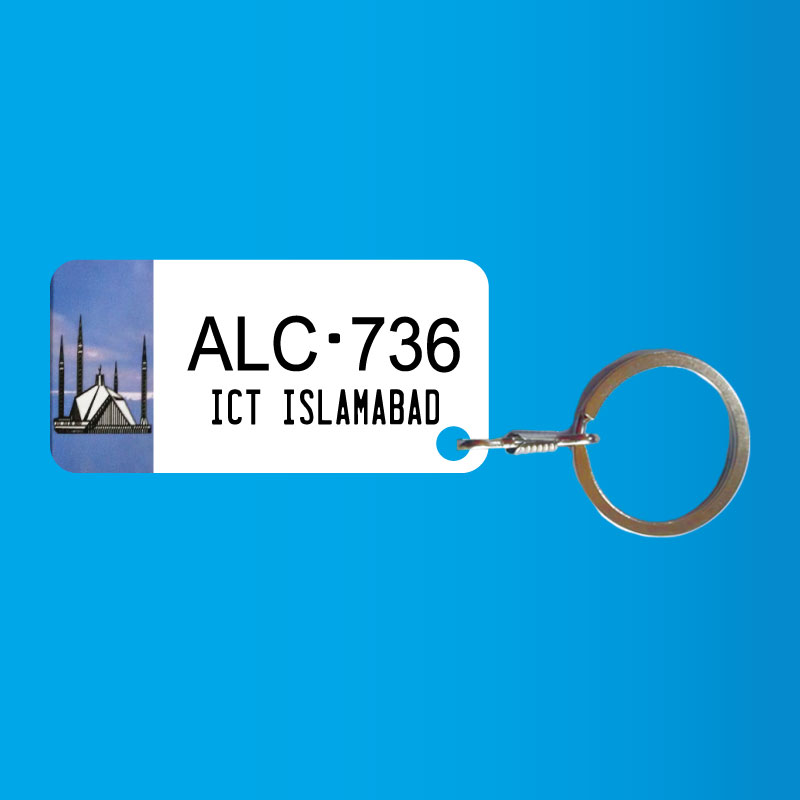plate: (45, 253, 492, 480)
